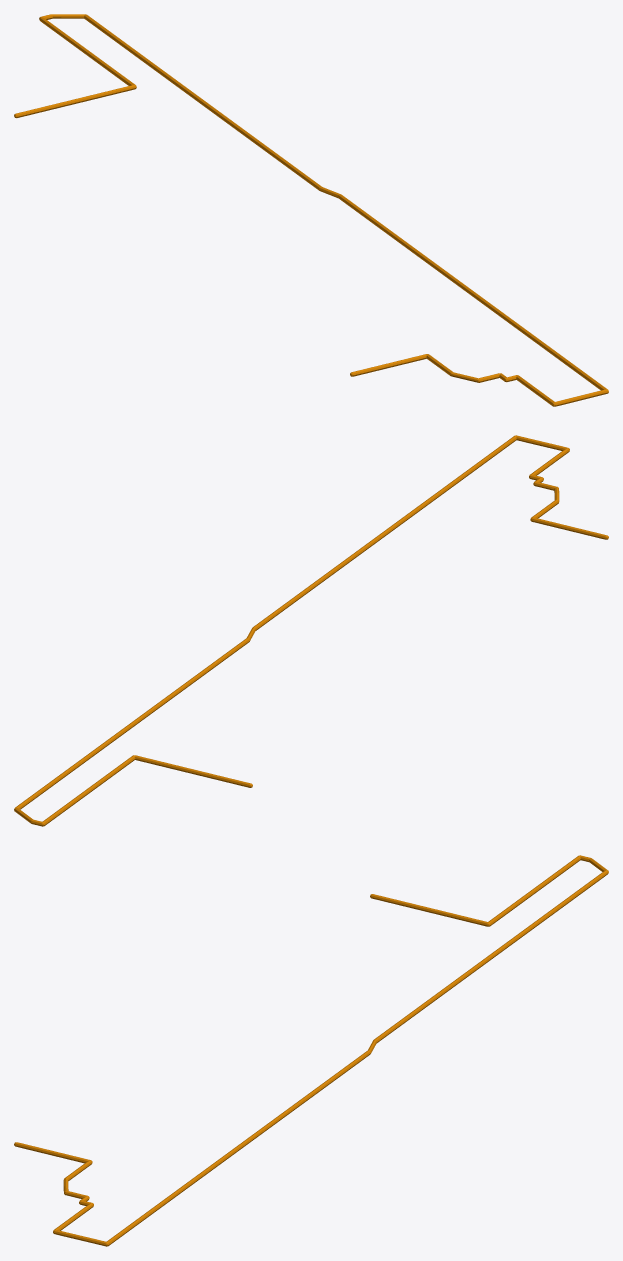
3 views of the same model, one above another, from view 1: azimuth 30°, elevation 25°; view 2: azimuth 150°, elevation 25°; view 3: azimuth 330°, elevation 25° (orthographic).
Size of the model in its own units: 827 by 20 by 4241.
